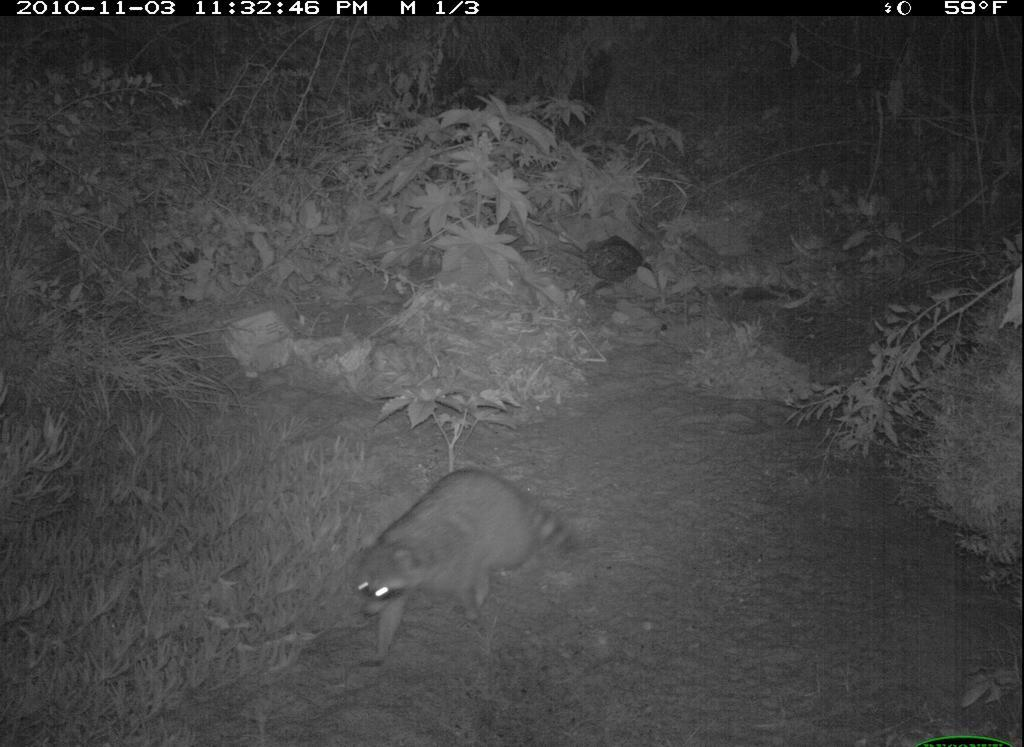raccoon: (328, 450, 570, 681)
